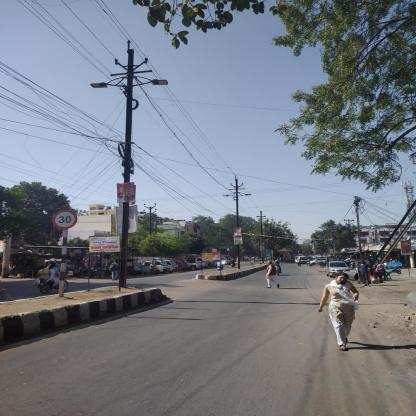Electrical Pole: (96, 36, 174, 291)
